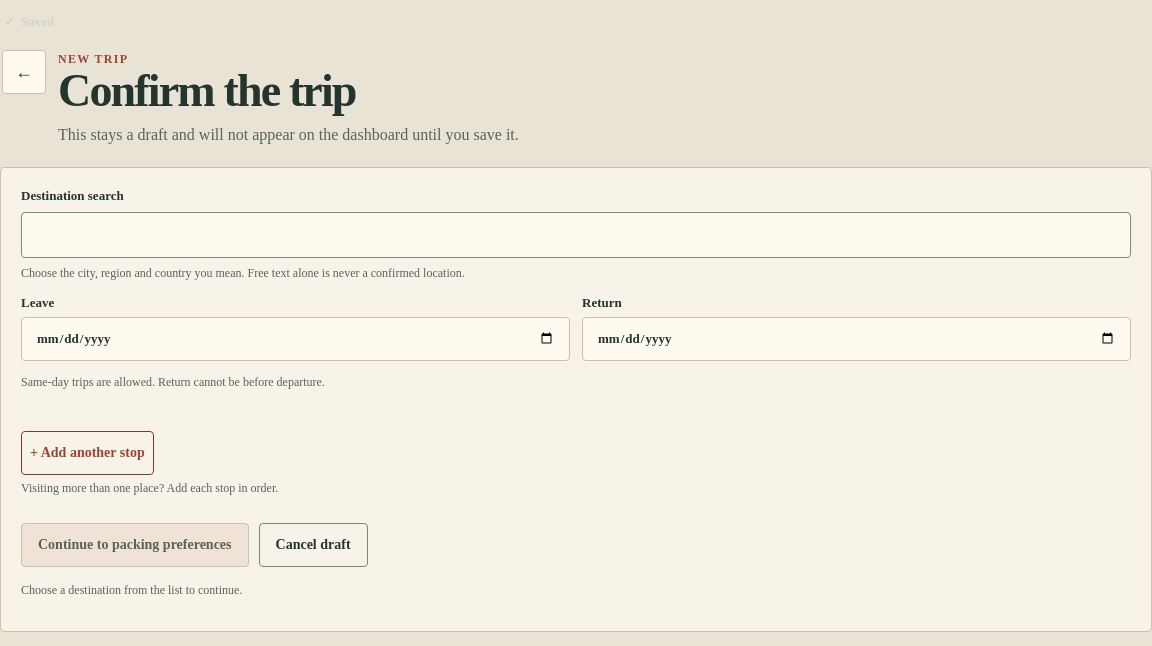
a route of several stops › turns into stop cards on Add, carrying the first stop's place and dates over
Type "lisbon" into the dropdown labelled "Destination search" at [576, 235], box [21,212,1131,258]
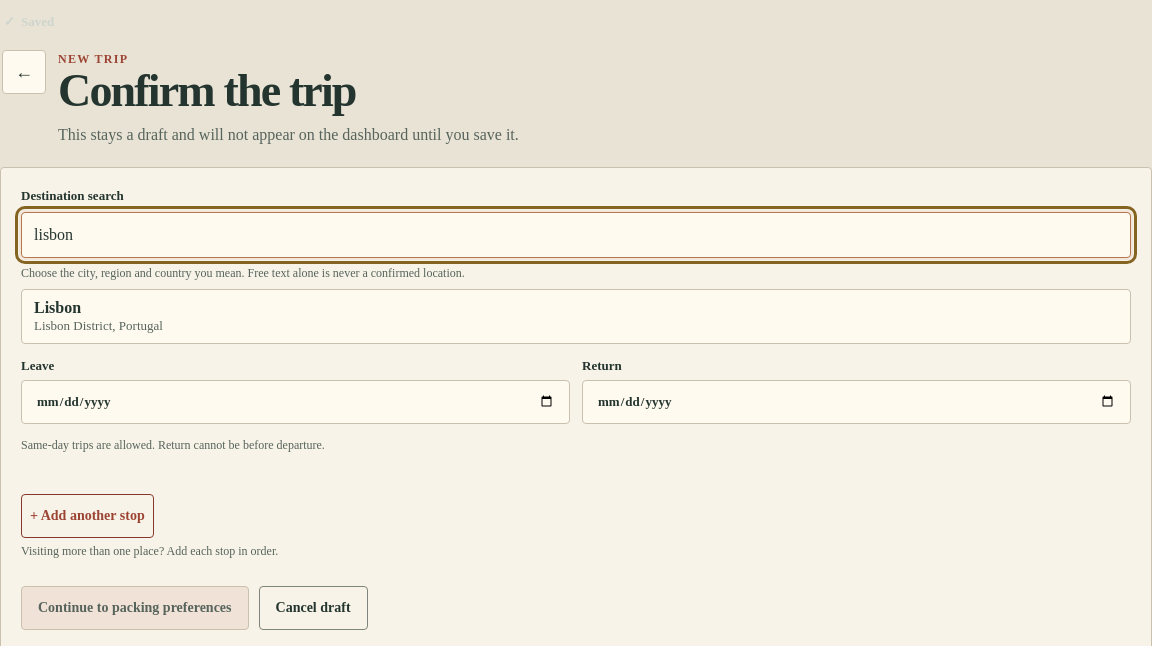
Click the option "Lisbon Lisbon District, Portugal" at [58, 307], box [21,289,1131,344]
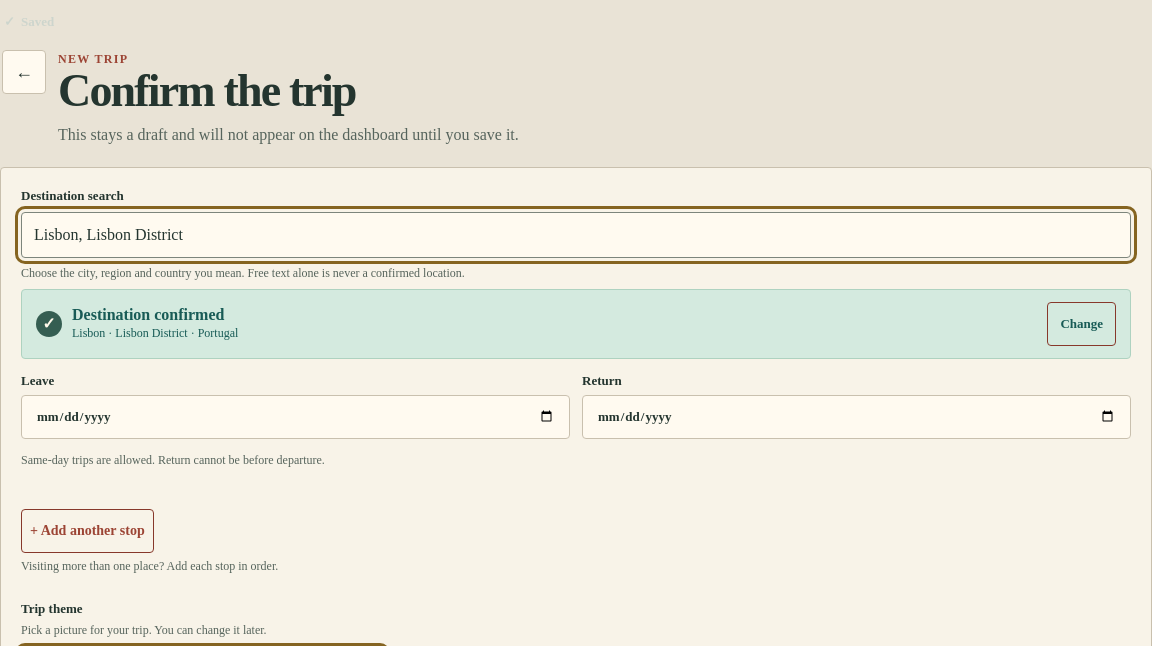
Type "2026-11-12" into the date field labelled "Leave" at [296, 417], box [21,395,570,439]
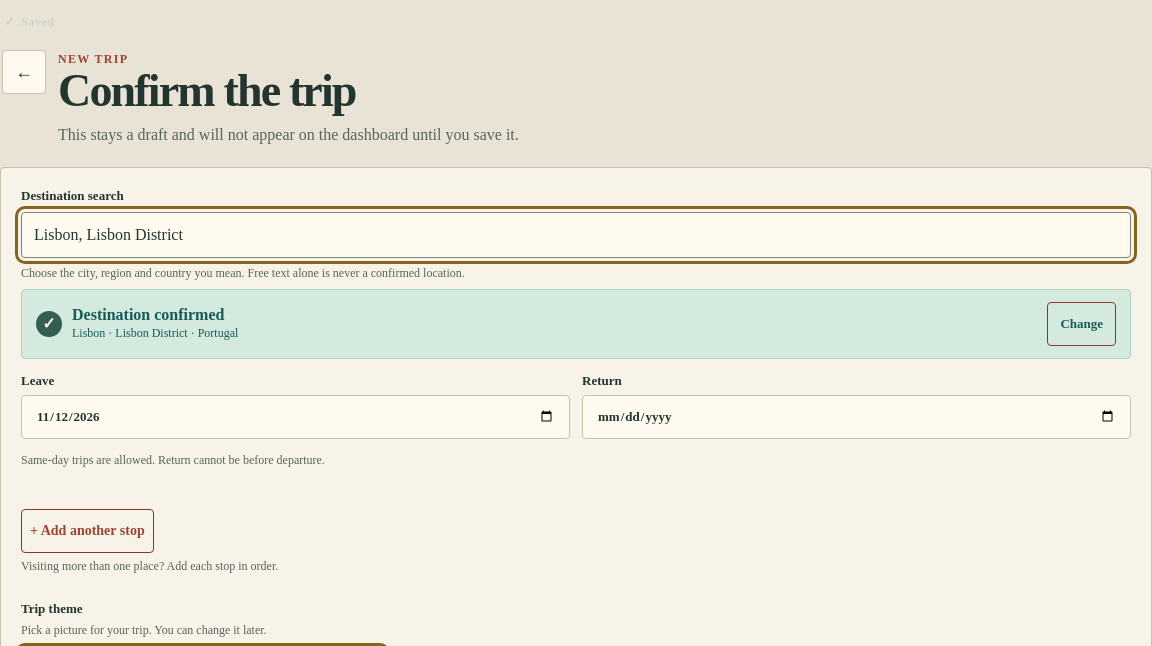
Type "2026-11-15" into the date field labelled "Return" at [856, 417], box [582,395,1131,439]
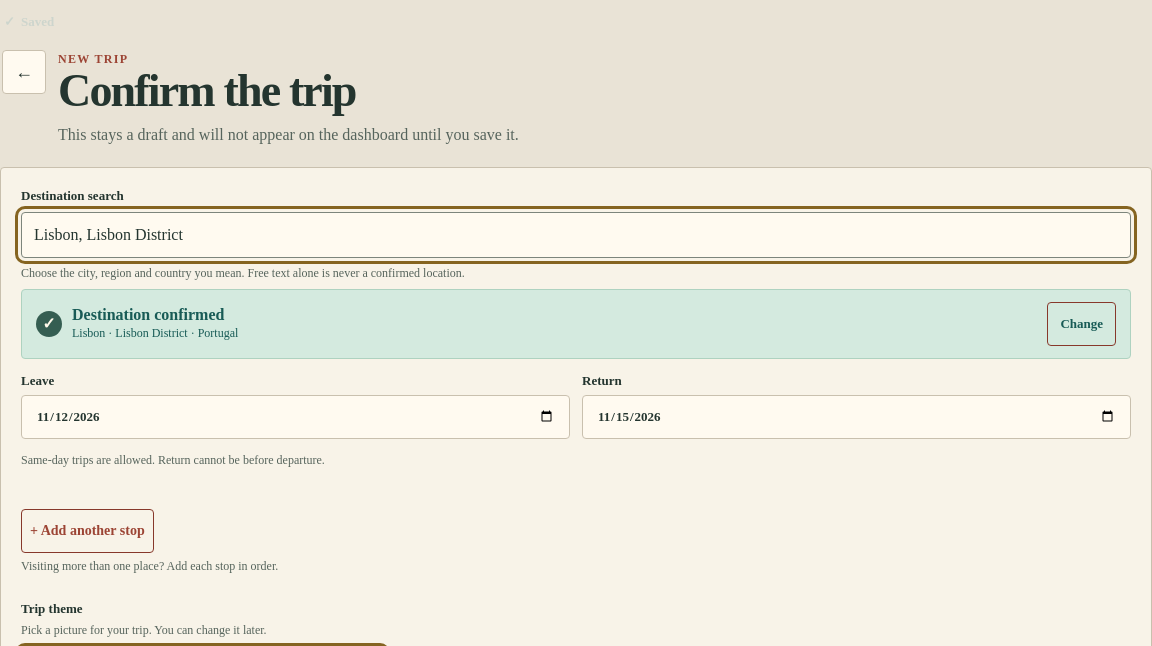
Click the button "+ Add another stop" at [87, 531], box [21,509,154,553]
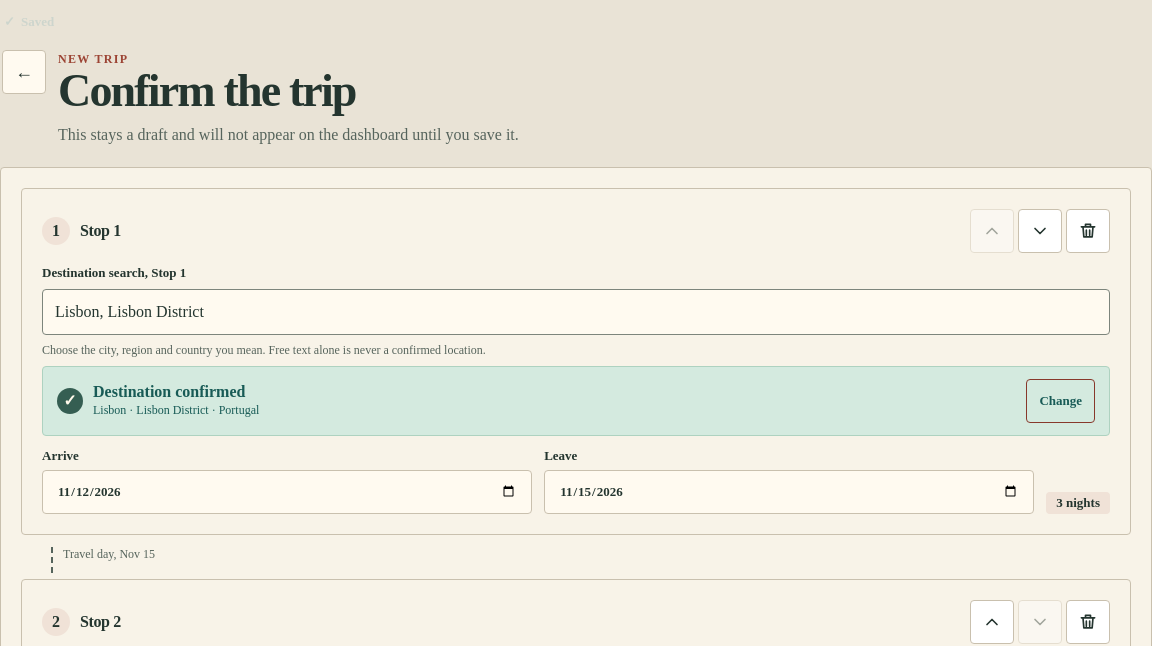
Expected: the text "Destination confirmed" is shown, [93,383,245,400]
Expected: the element "Stop 1" is shown, [42,209,1110,514]
Expected: the date field labelled "Arrive" holds "2026-11-12", [42,470,532,514]
